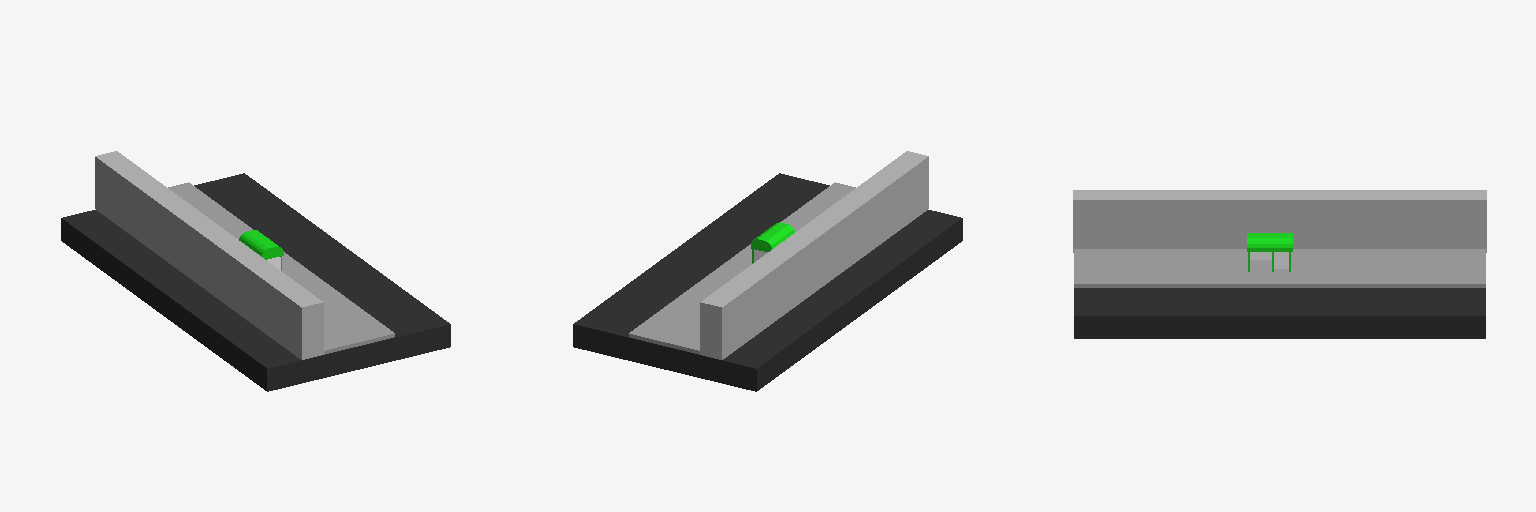
Rendered from busstation.obj.
The picture shows the model from 3 angles: view 1: azimuth 30°, elevation 25°; view 2: azimuth 150°, elevation 25°; view 3: azimuth 270°, elevation 25°; orthographic projection.
Parts seen in each view (by area): view 1: Cube14, Cube13, Cube12, Cube2; view 2: Cube14, Cube13, Cube12, Cube2; view 3: Cube13, Cube14, Cube12, Cube2.
Boxes of the visible parts, x1,y1,x2,y2 form: Cube14: [61, 173, 450, 391]; Cube13: [95, 151, 323, 359]; Cube12: [168, 182, 394, 354]; Cube2: [239, 230, 283, 259]; Cube14: [573, 173, 962, 391]; Cube13: [700, 151, 928, 359]; Cube12: [629, 182, 855, 354]; Cube2: [751, 222, 794, 251]; Cube13: [1073, 190, 1486, 252]; Cube14: [1074, 288, 1485, 338]; Cube12: [1074, 249, 1485, 287]; Cube2: [1247, 233, 1292, 251].
Size of the model in its own units: 16.55 by 6.59 by 32.35.